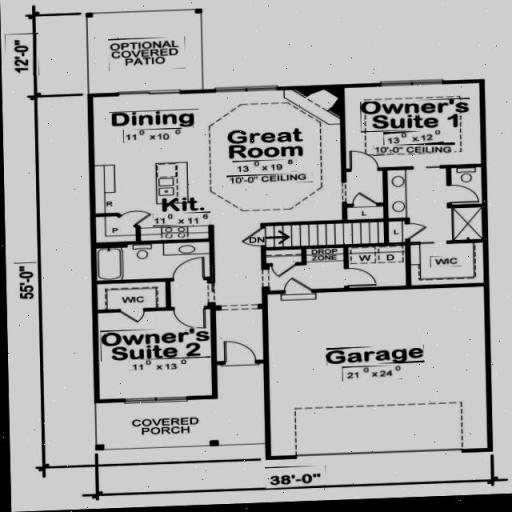Room: (103, 251, 223, 410), (348, 98, 499, 182)
garage: (272, 296, 486, 452)
hall: (98, 91, 338, 230)
porch: (112, 407, 279, 468)
